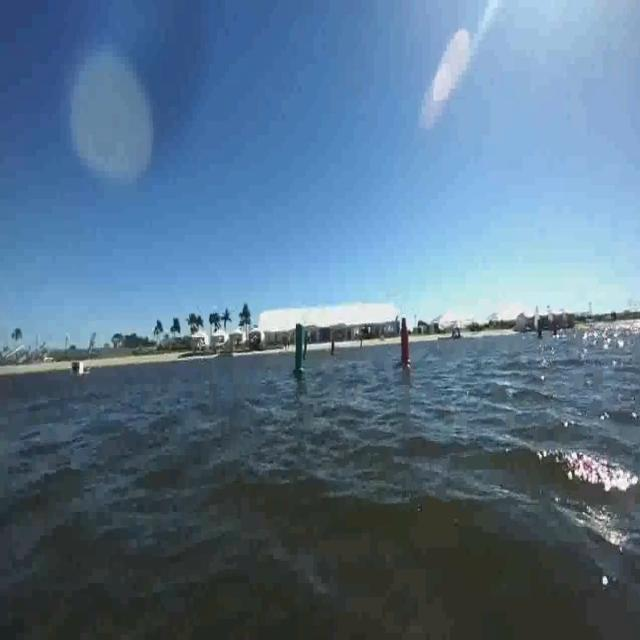green-column-buoy: (290, 323, 308, 377)
red-column-buoy: (395, 318, 412, 370)
